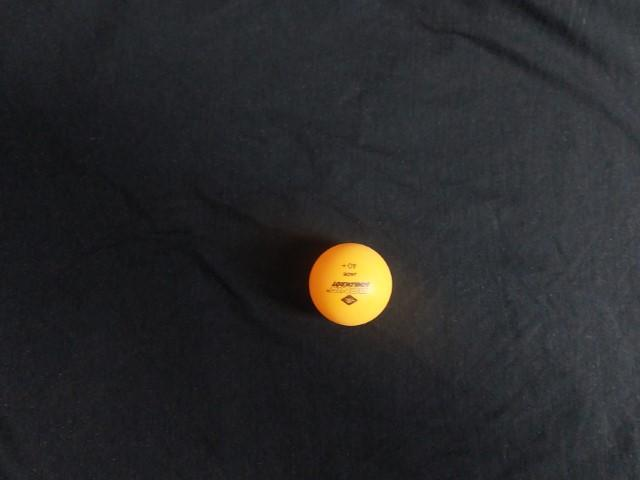oball: (242, 149, 340, 244)
